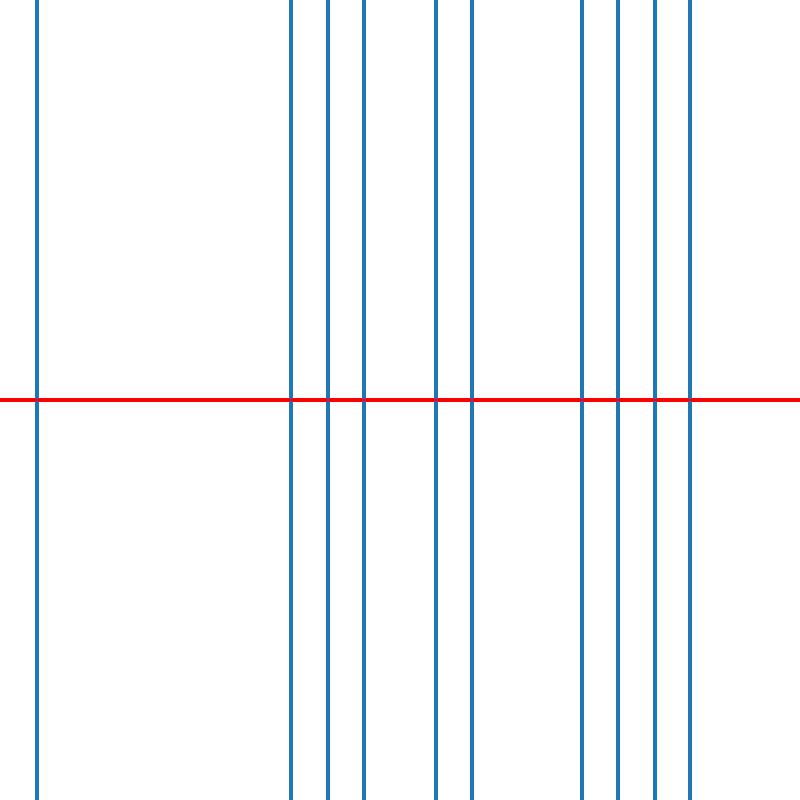root: (32, 396, 40, 404), (650, 396, 658, 404), (432, 396, 440, 404), (360, 396, 367, 404), (614, 396, 621, 404), (323, 396, 330, 404), (469, 396, 476, 404), (687, 396, 694, 404), (578, 396, 585, 404), (287, 396, 294, 404)
